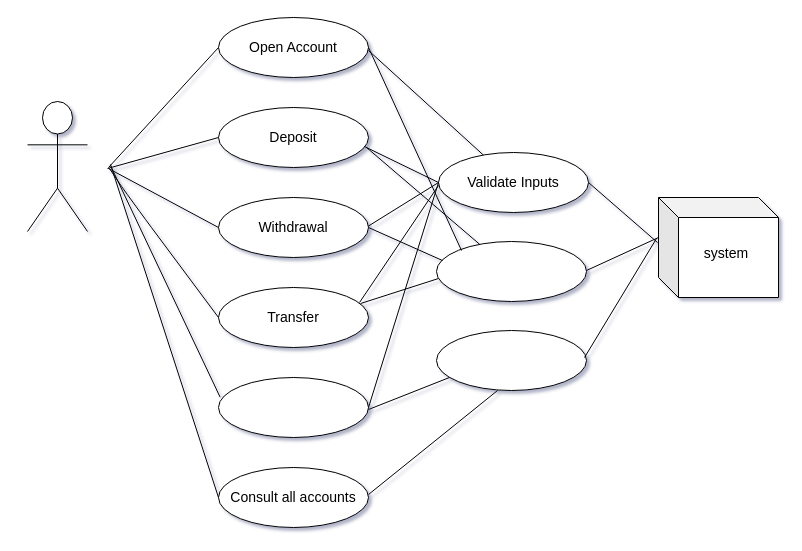
Image size: 802x551. Some labels were removed from this diagram. The shapes that lost their labels are listed below. From the top down, each one's centre as x and y in pixels, then its label:
At pixel 57 166: "Bank Attendant".
At pixel 511 271: "Update data".
At pixel 511 360: "Query data".
At pixel 293 407: "Consult account".
